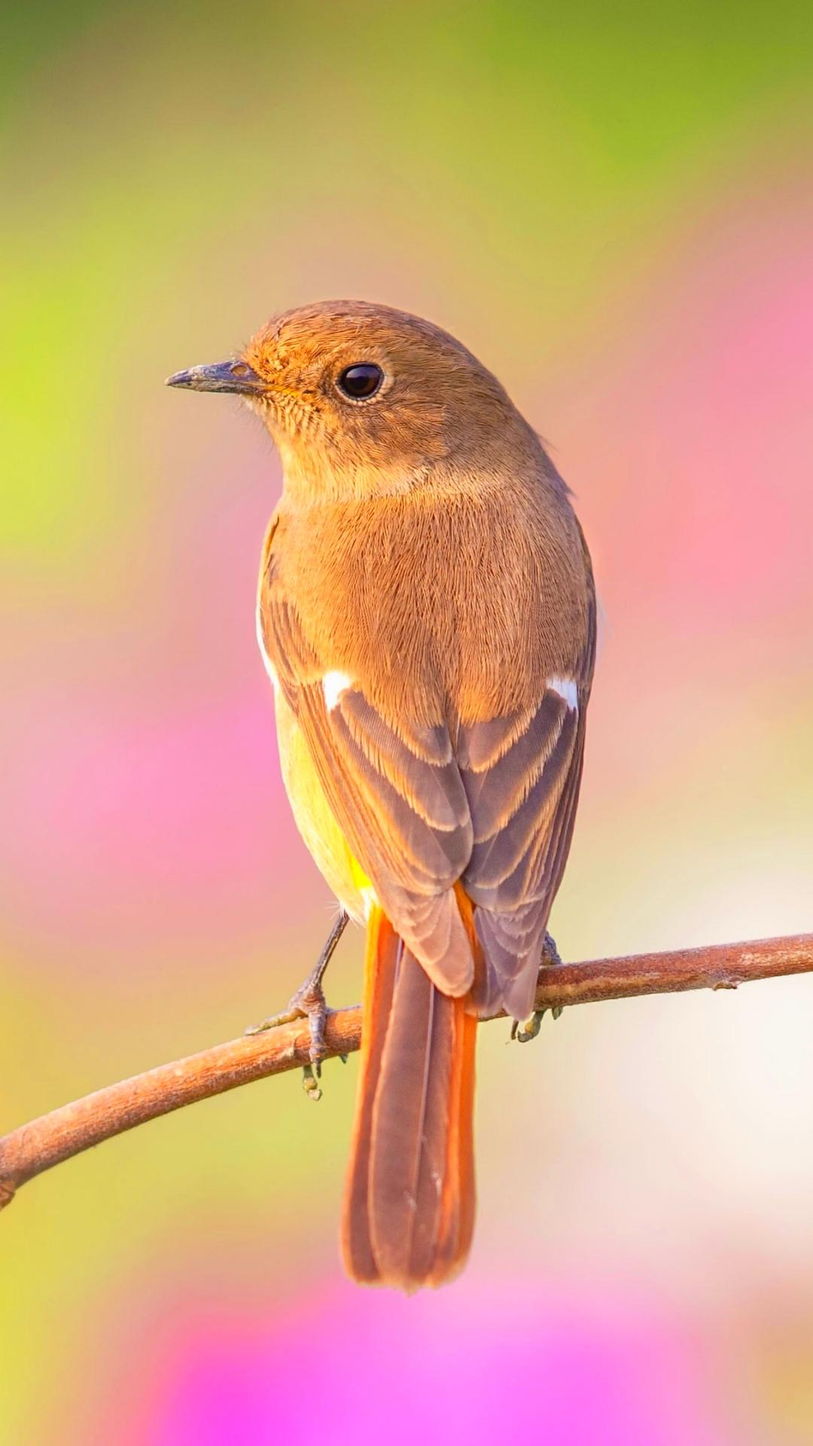bird: (168, 302, 595, 1290)
